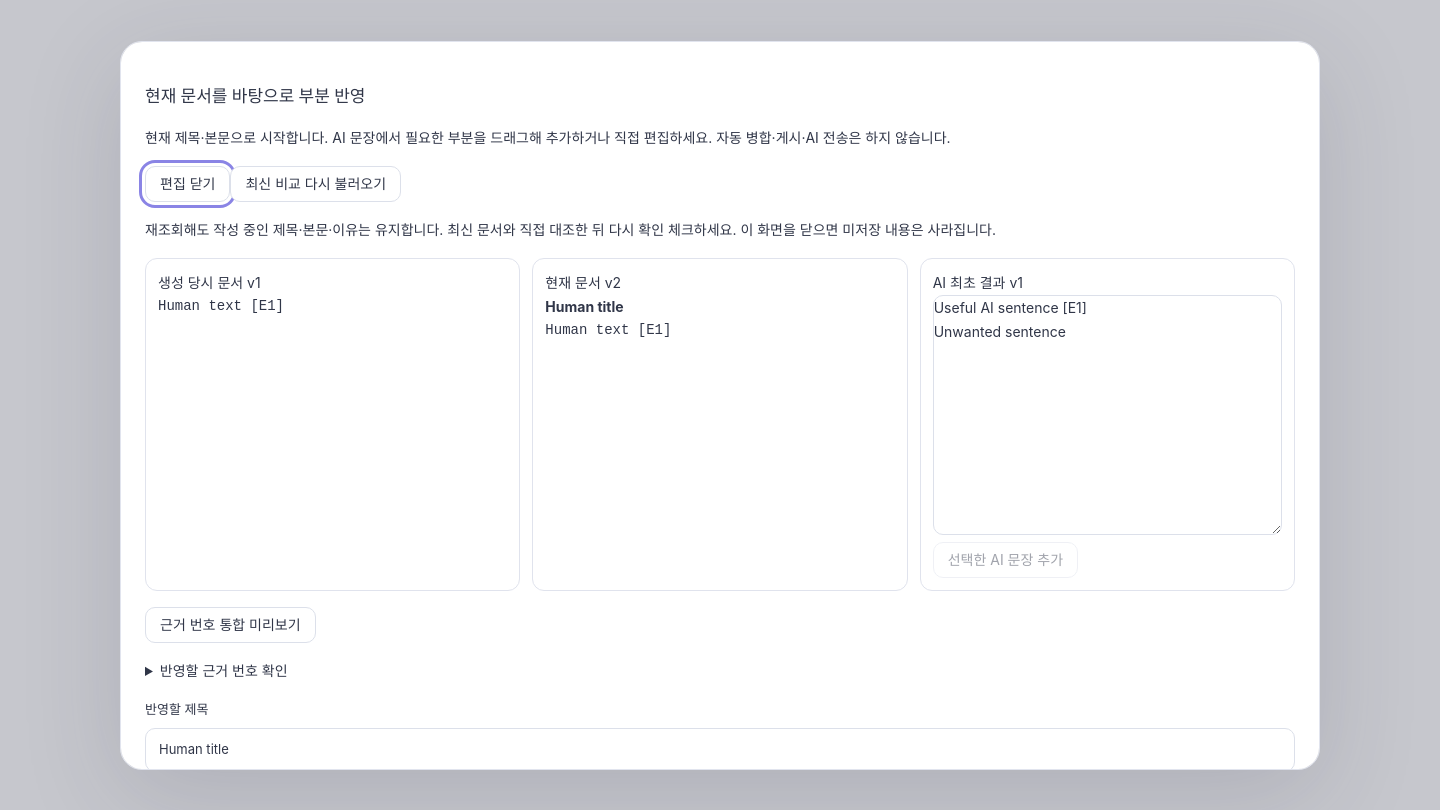
번호 확인 후 본문 수정과 재조회는 통합 동의를 해제한다
Click the button "근거 번호 통합 미리보기": point(230, 624) [145,606,316,642]
(page scrolled)
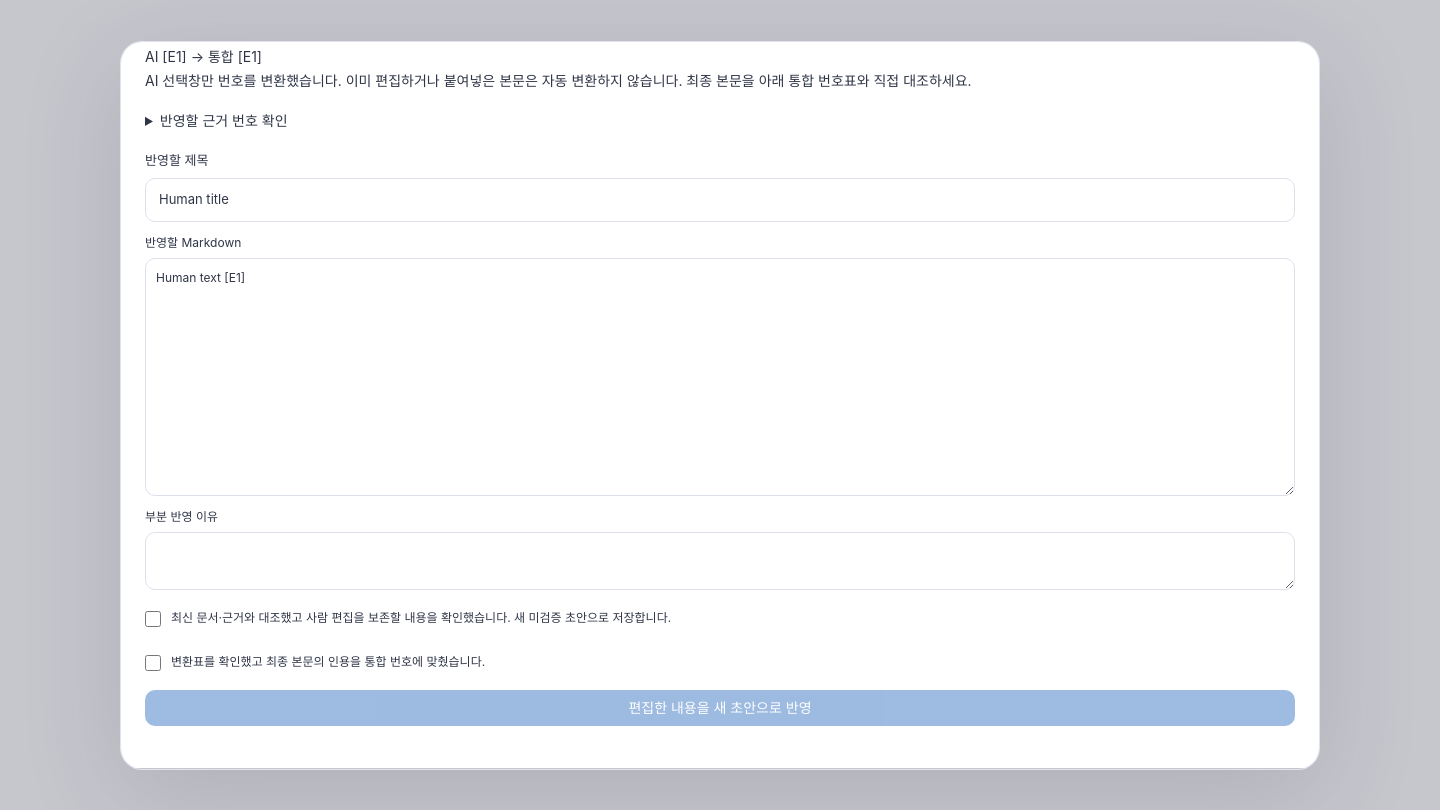
Expected: the element named "근거 번호 변환표" is shown, [145,40,972,89]
Click the checkbox labelled "변환표를 확인했고 최종 본문의 인용을 통합 번호에 맞췄습니다.": point(153, 663) [145,655,161,671]
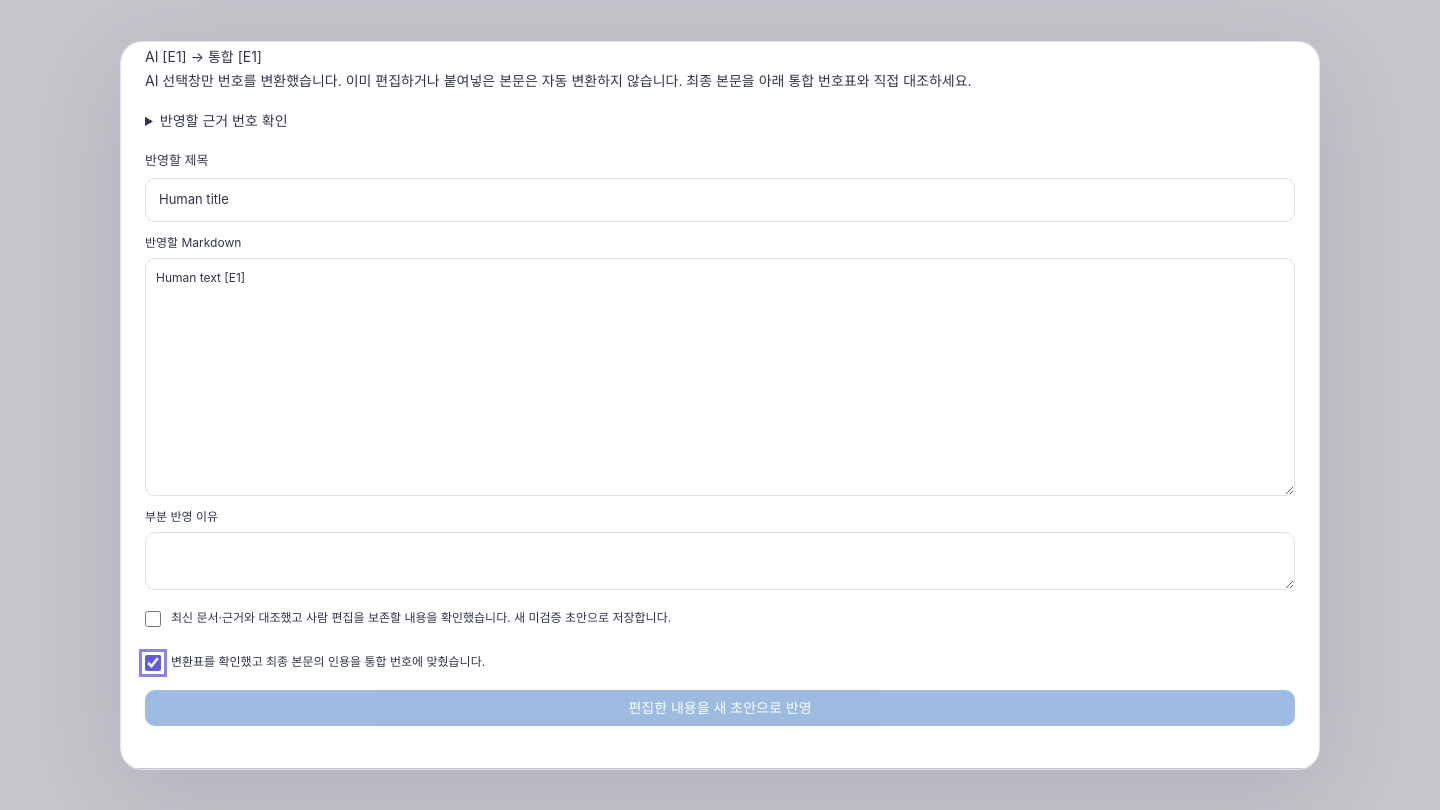
In the text box labelled "반영할 Markdown": point(720, 377) [145,258,1295,496], type " revised"
(page scrolled)
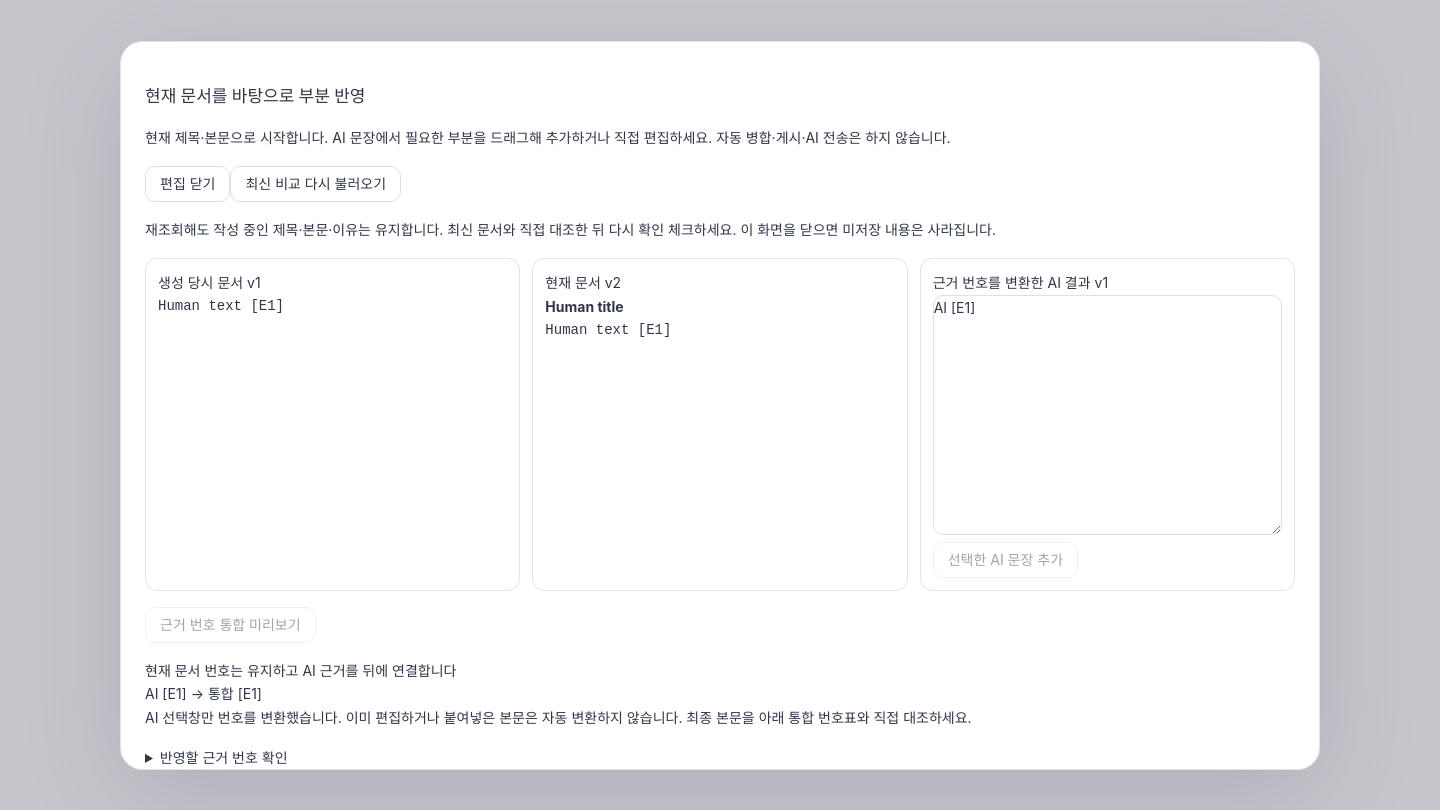
Click the button "최신 비교 다시 불러오기": point(316, 184) [230,166,401,202]
(page scrolled)
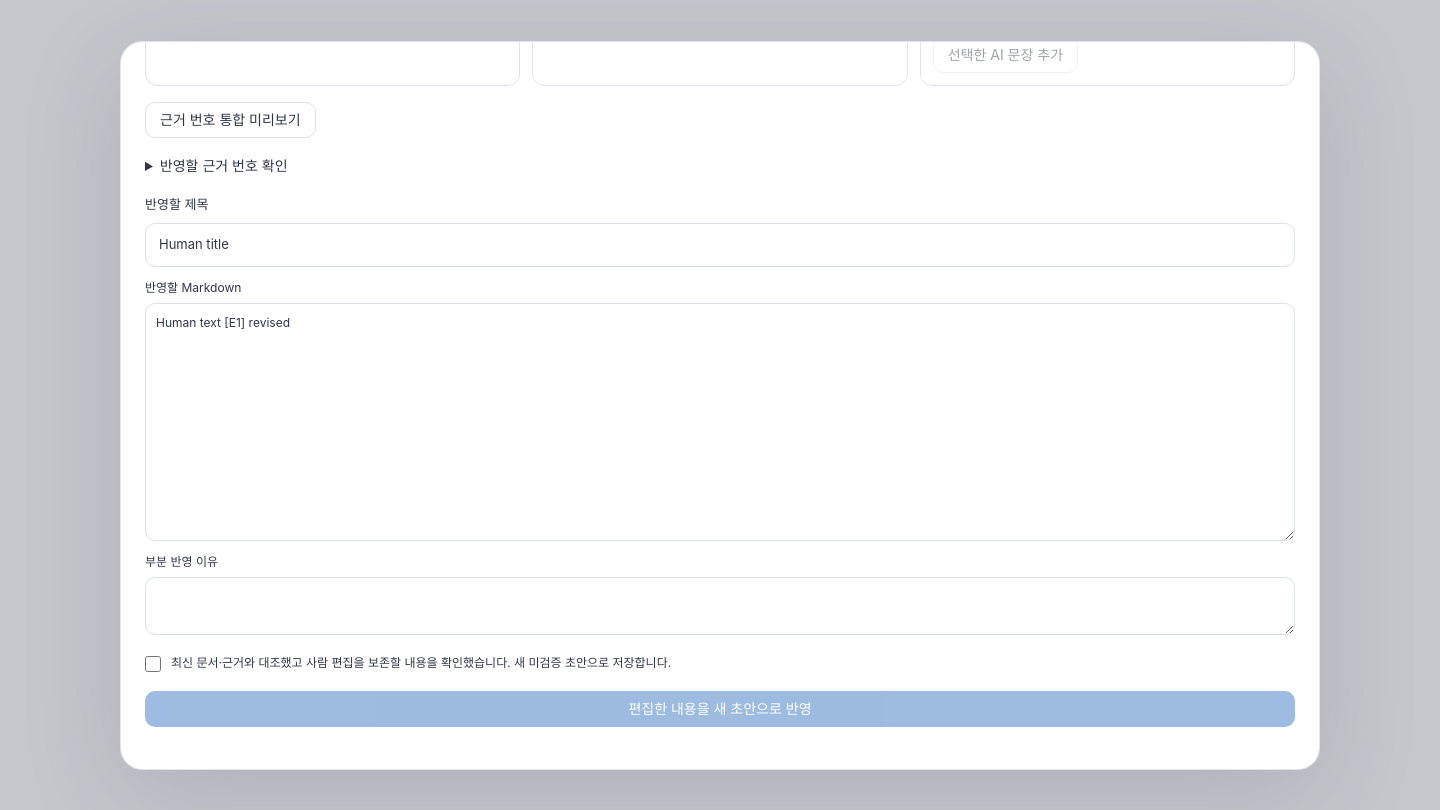
Expected: the text box labelled "반영할 Markdown" holds "Human text [E1] revised", [145,303,1295,541]
